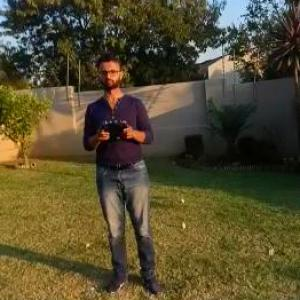follow: (79, 46, 167, 299)
